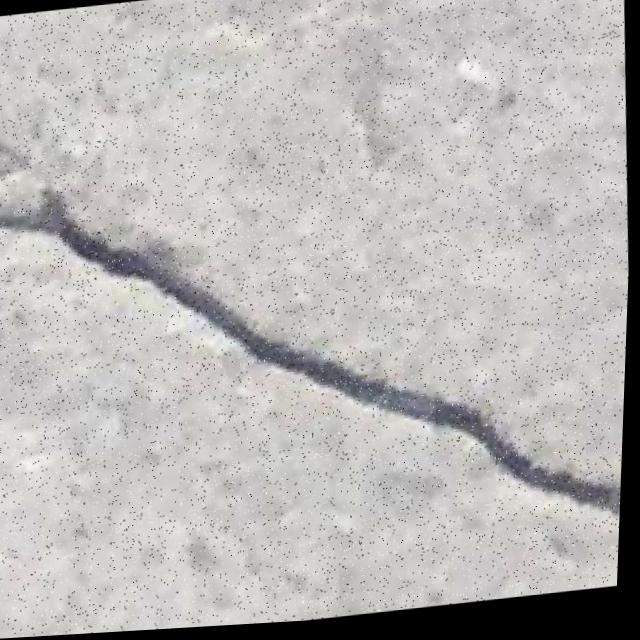Crack: (0, 122, 636, 601)
